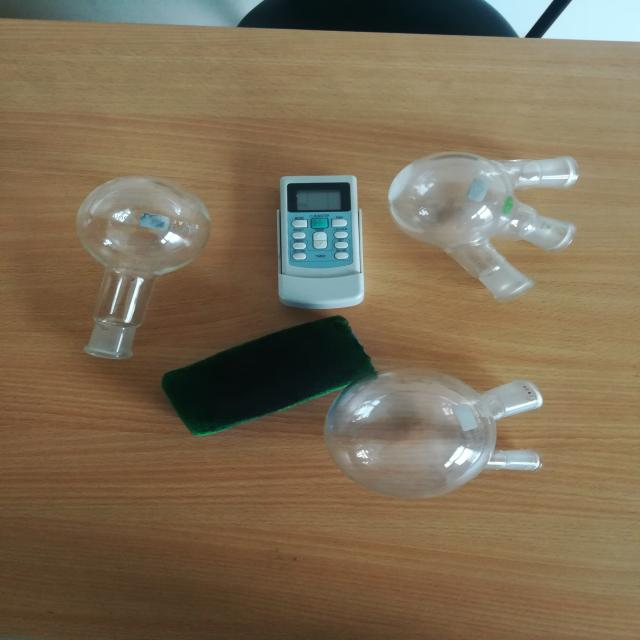Round_Bottom_Flask_Borosilicate_Glass_1_Neck: (48, 152, 222, 387)
Round_Bottom_Flask_Borosilicate_Glass_2_Neck: (291, 346, 571, 520)
Round_Bottom_Flask_Borosilicate_Glass_3_Neck: (394, 133, 631, 315)
